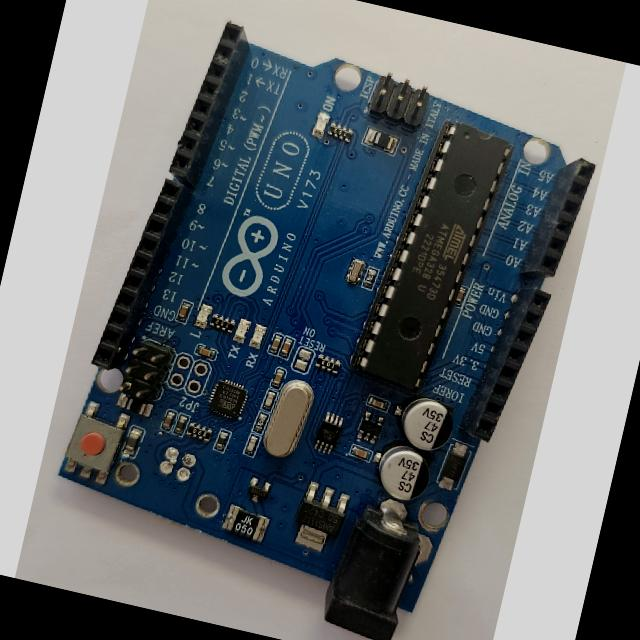missing_usb: (124, 434, 241, 530)
